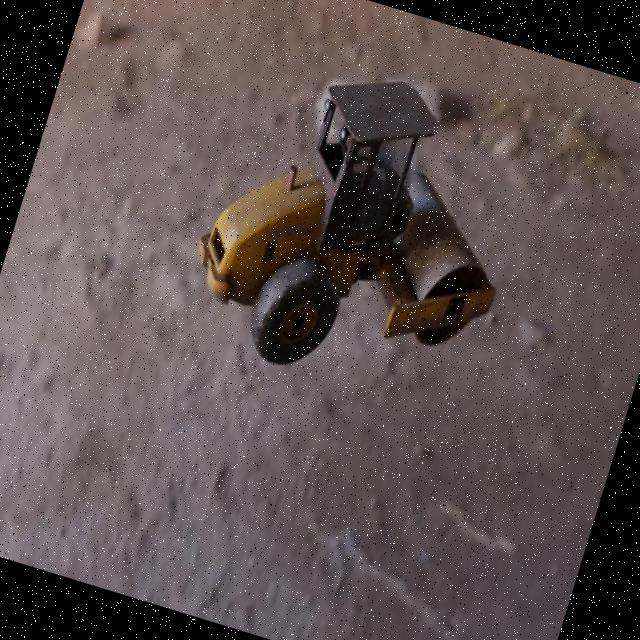Roller: (169, 37, 546, 420)
